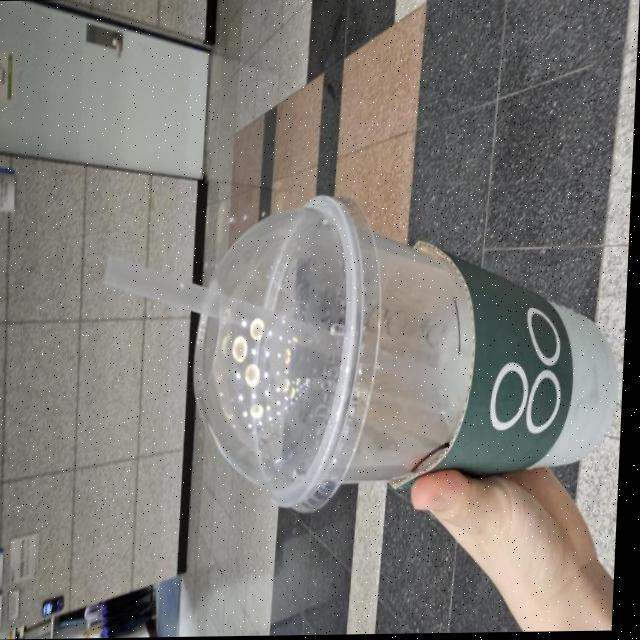cup: (186, 186, 633, 520)
